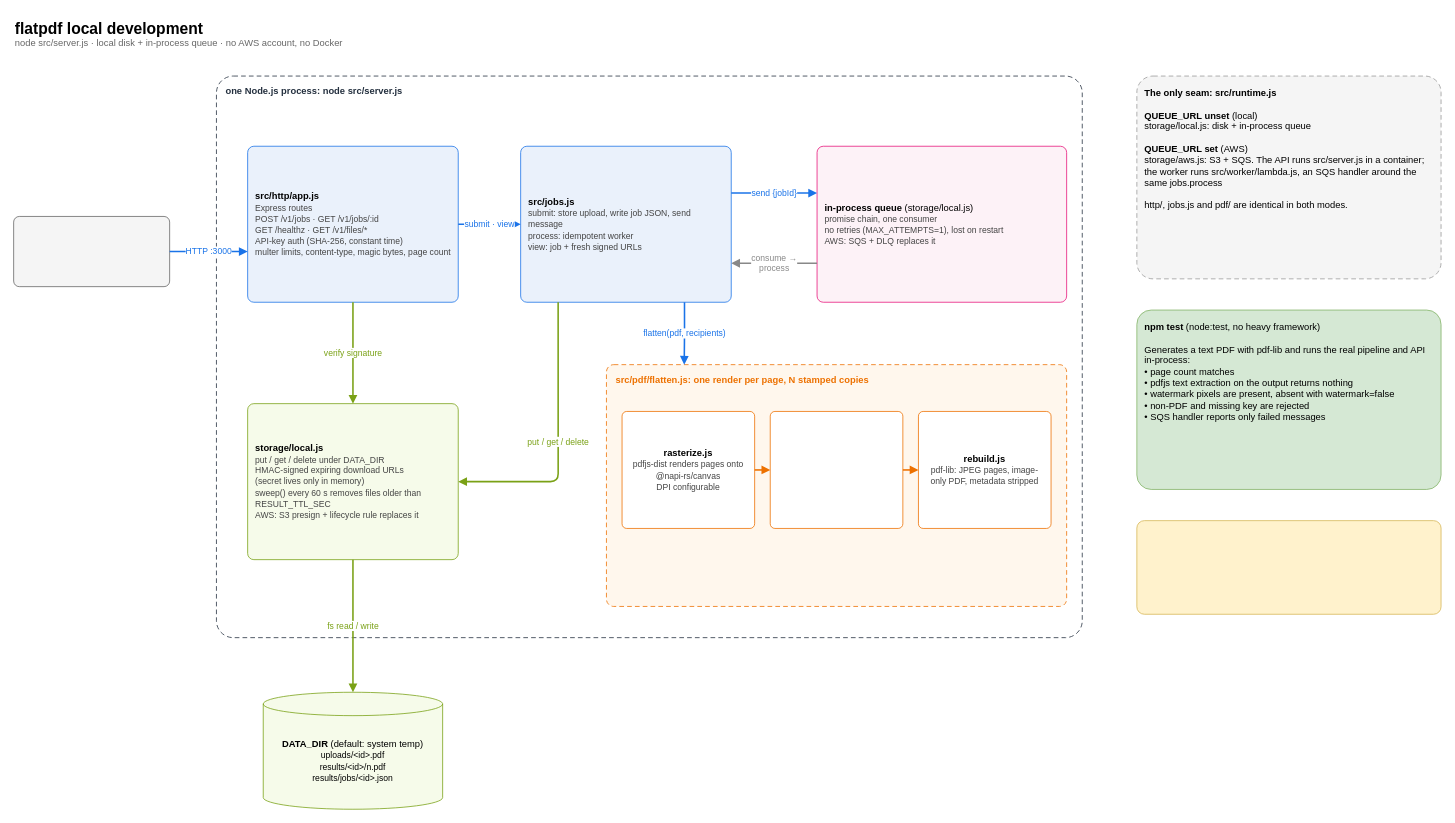
Some shapes in this 1455 by 823 pixel diagram are drawn without their labels. Each missing label, with the centre of its shape:
"curl / browser / tests HTTP :3000 + x-api-key" belongs at pixel 91 251.
"Run it npm ci cp .env.example .env npm start npm test" belongs at pixel 1288 567.
"watermark.js diagonal recipient text + footer (recipient, UTC time, hash prefix)" belongs at pixel 836 469.
